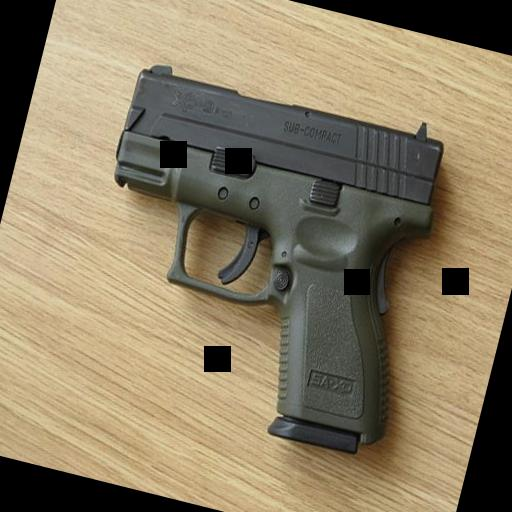Handgun: (56, 51, 462, 465)
